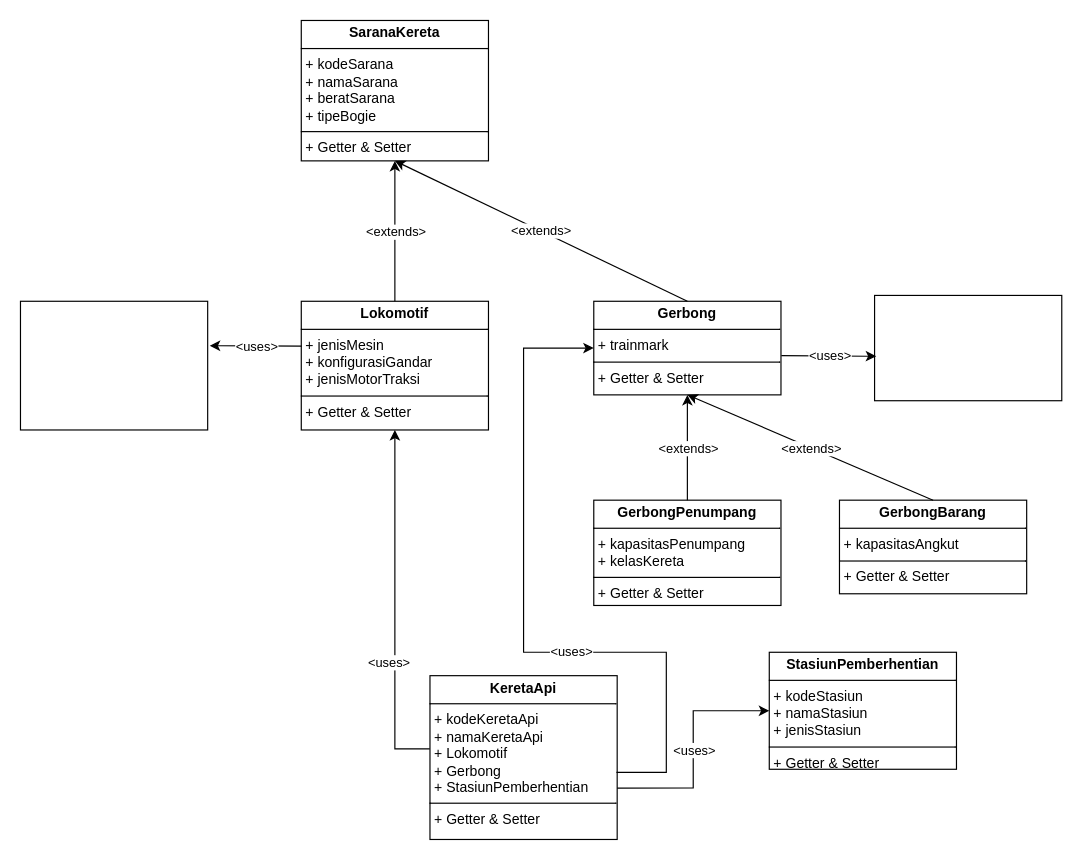
Some shapes in this 1082 by 860 pixel diagram are drawn without their labels. Here are the shapes that lost their labels. From the top down, the centre of each, then its label:
At (x=113, y=365): "Mesin + namaMesin + dayaMesin + silinder + Getter & Setter".
At (x=967, y=347): "Trainmark + kodeTrainmark + kecepatanMaks + Getter & Setter".
